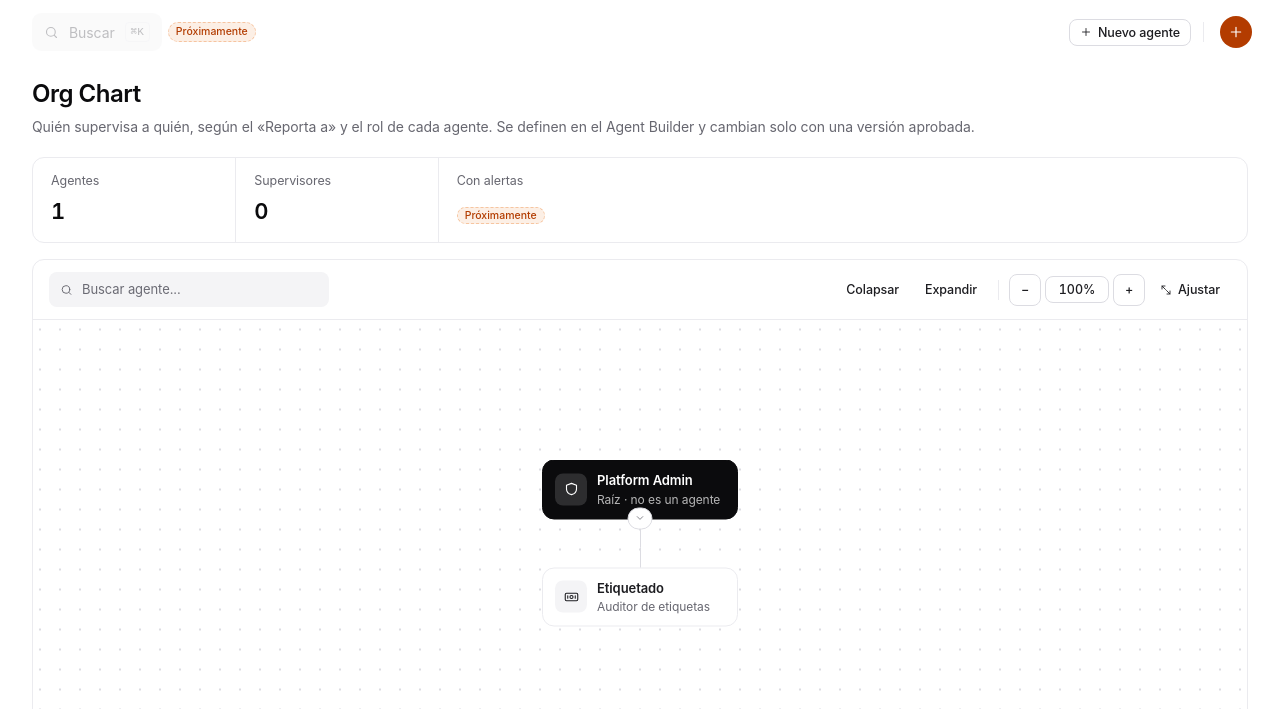
Scenario: OrgChartPage › tells who sees an agent they cannot use why, and who uses it (creator: true, may edit: true)
What coordinates should you click on to do the following:
click the button with aria-label "Etiquetado, Auditor de etiquetas"
I would click on:
 (640, 597)
Its box is [543, 568, 737, 626].
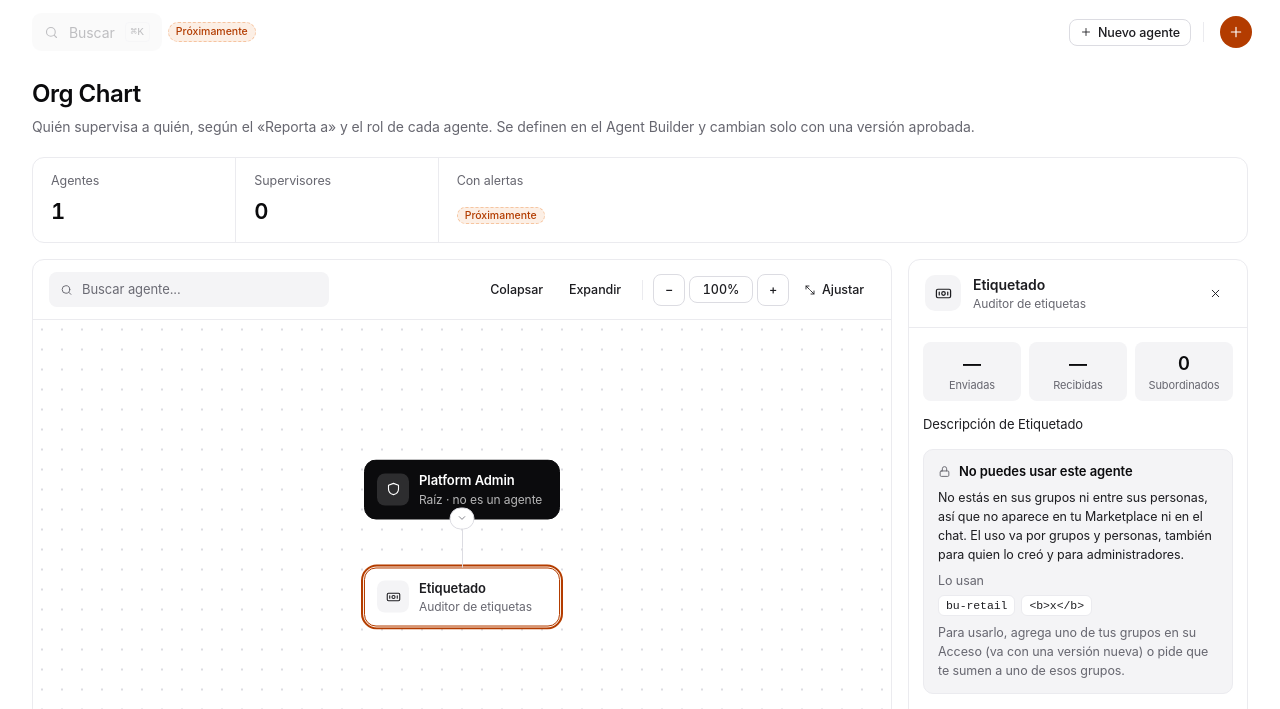
Expected: the element that starts with "No puedes usar este agente" is shown, [959, 463, 1133, 479]
Expected: the element that starts with "No puedes usar este agente" shows "No estás en sus grupos ni entre sus personas, así que no aparece en tu Marketplace ni en el chat. El uso va por grupos y personas, también para quien lo creó y", [938, 490, 1212, 562]
Expected: the text with class "oc-nouse-how" shows "Para usarlo, agrega uno de tus grupos en su Acceso (va con una versión nueva) o pide que te sumen a uno de esos grupos.", [938, 625, 1208, 678]
